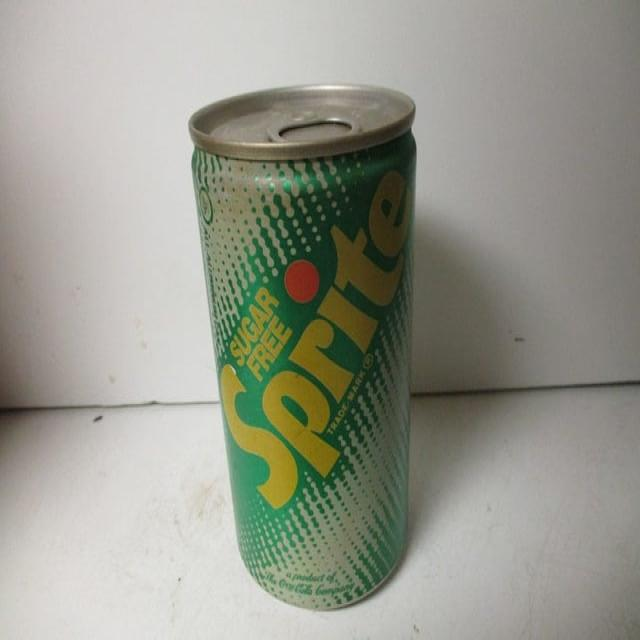sprite: (190, 121, 446, 620)
